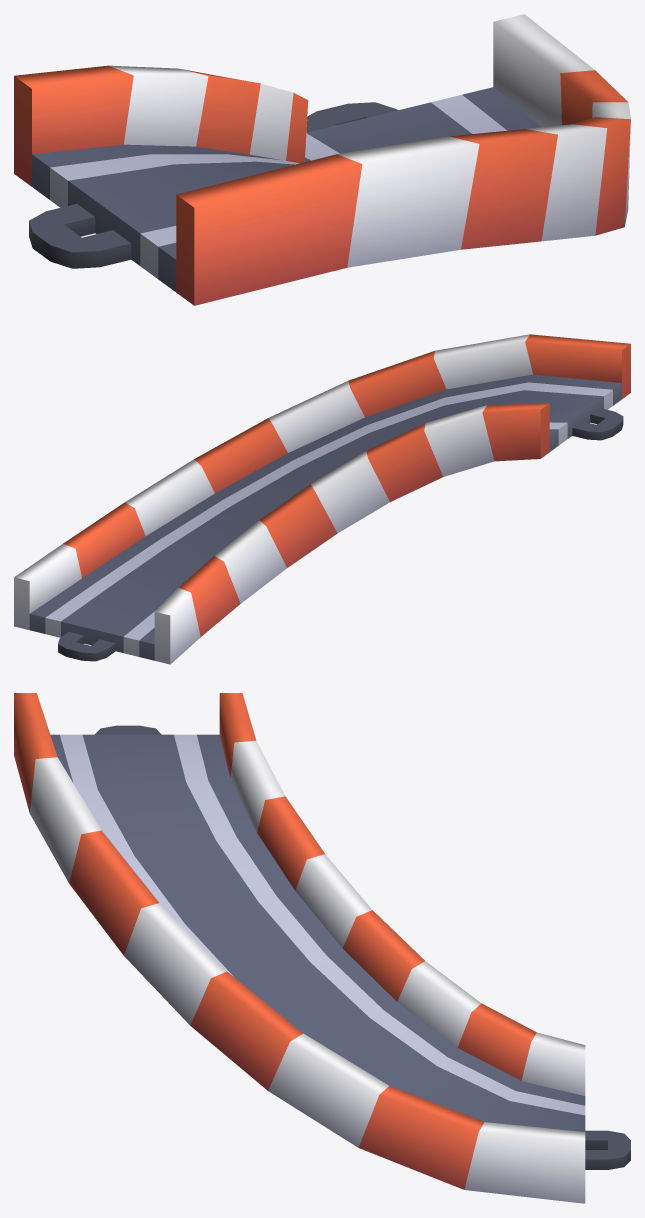
Rendered from track-road-narrow-corner-small-ramp.glb.
The picture shows the model from 3 angles, top to bottom: view 1: azimuth 30°, elevation 25°; view 2: azimuth 150°, elevation 25°; view 3: azimuth 270°, elevation 25°; orthographic projection. The views are drawn at different scales.
Visible parts, largest first — view 1: track-road-narrow-corner-small-ramp; view 2: track-road-narrow-corner-small-ramp; view 3: track-road-narrow-corner-small-ramp.
Boxes of the visible parts, x1=… form: track-road-narrow-corner-small-ramp: x1=14, y1=14, x2=630, y2=305; track-road-narrow-corner-small-ramp: x1=14, y1=334, x2=630, y2=664; track-road-narrow-corner-small-ramp: x1=14, y1=693, x2=630, y2=1203.
Bounding box in the file's own units: 2.7 × 1.3 × 2.7.
1 material, 1 textured.
